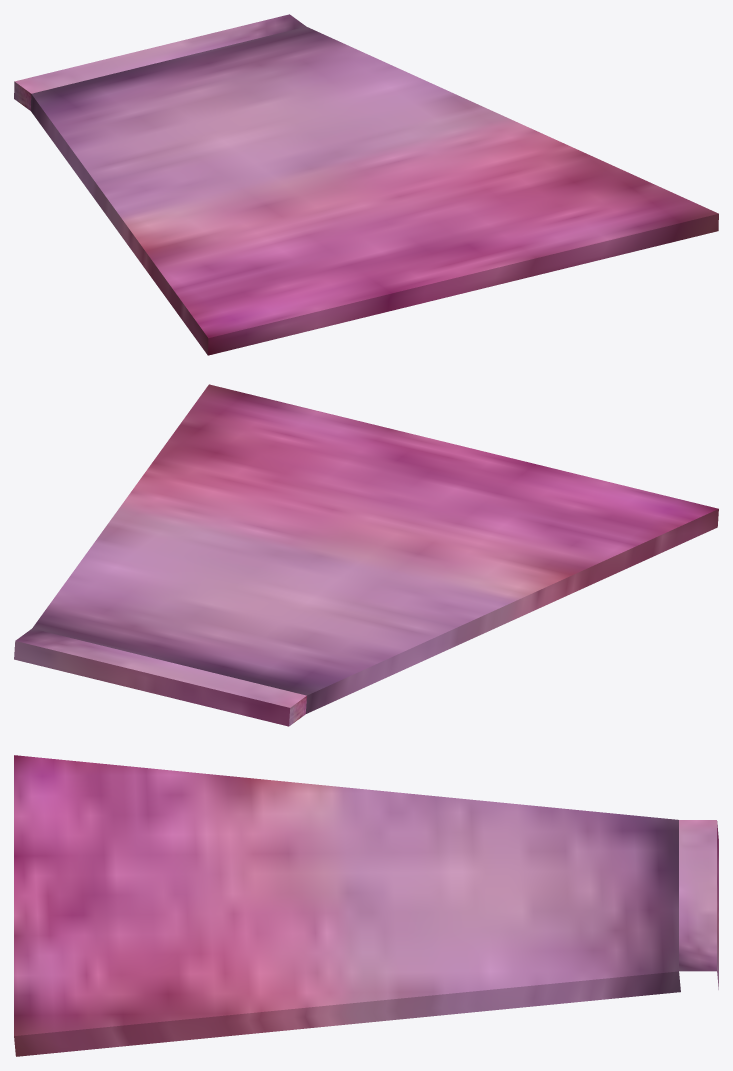
File: NIEUFORMOWANA_MAGICZNA.glb
The picture shows the model from 3 angles, top to bottom: view 1: azimuth 30°, elevation 25°; view 2: azimuth 150°, elevation 25°; view 3: azimuth 270°, elevation 25°; orthographic projection. The views are drawn at different scales.
Visible parts, largest first — view 1: NIEUFORMOWANA_MAGICZNA; view 2: NIEUFORMOWANA_MAGICZNA; view 3: NIEUFORMOWANA_MAGICZNA.
Boxes of the visible parts, box(x1,y1,x2,y2) form: NIEUFORMOWANA_MAGICZNA: box(14, 14, 718, 355); NIEUFORMOWANA_MAGICZNA: box(14, 384, 718, 726); NIEUFORMOWANA_MAGICZNA: box(14, 755, 718, 1056).
Size of the model in its own units: 0.2454 by 0.00833 by 0.26.
1 material, 1 textured.
